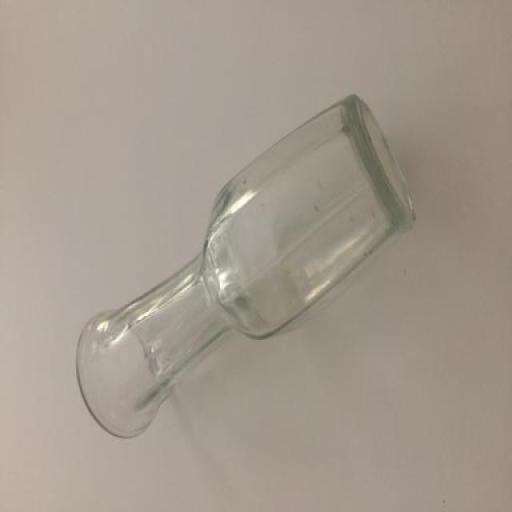glass: (68, 88, 420, 441)
